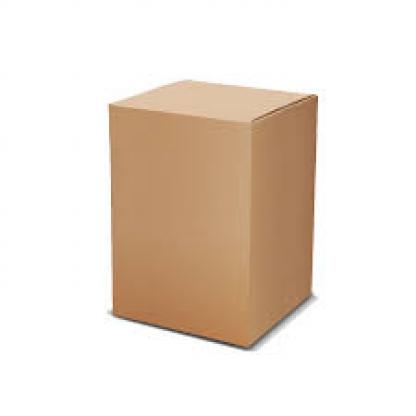CARDBOARD: (106, 78, 316, 346)
